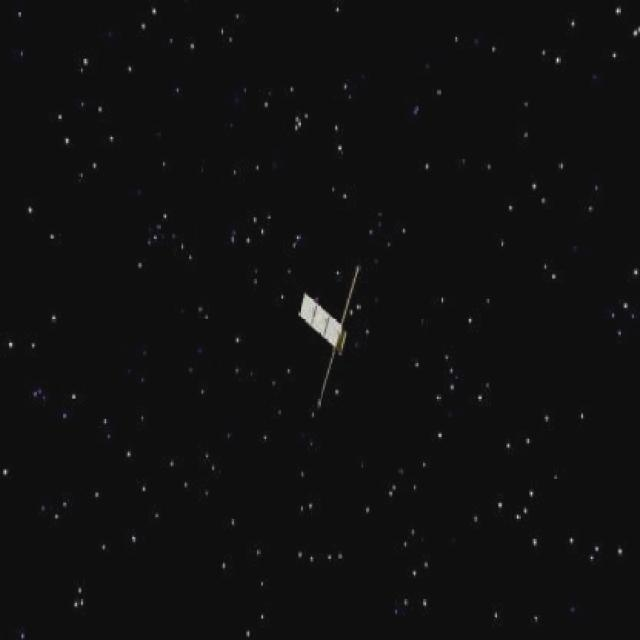satellite: (290, 246, 370, 417)
